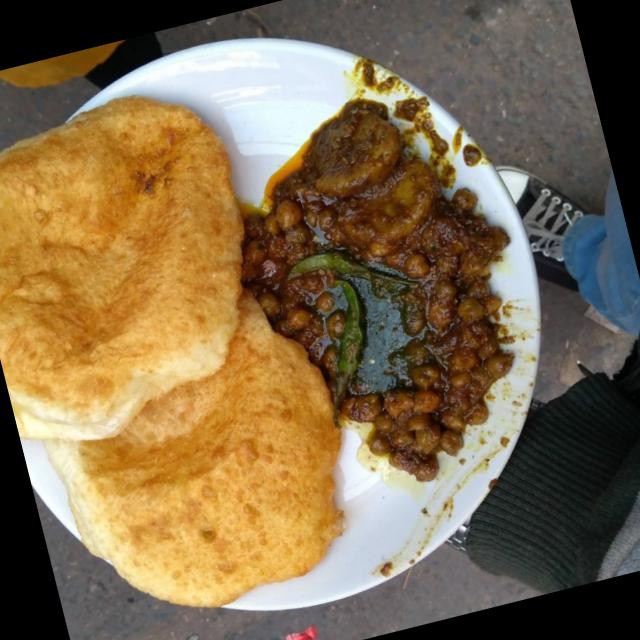Bhatura: (0, 65, 369, 640)
Chole: (245, 138, 550, 497)
